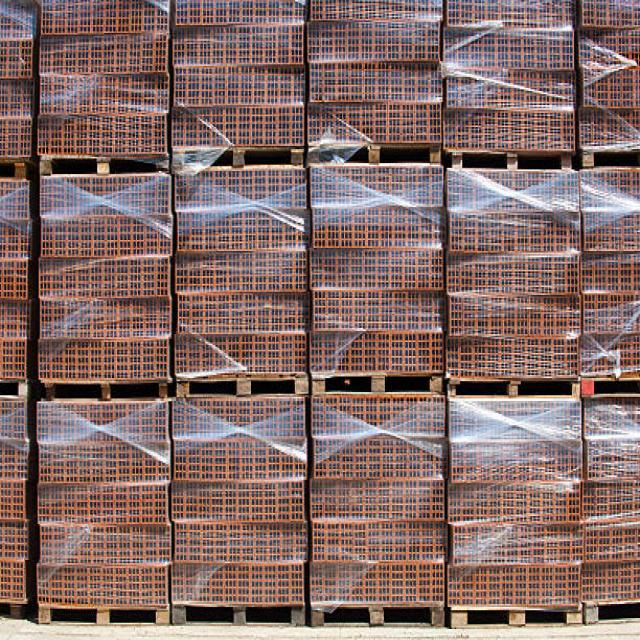Wooden-Pallets: (34, 366, 168, 405), (313, 365, 445, 401), (307, 592, 444, 626), (35, 147, 169, 180), (174, 594, 303, 628), (174, 141, 301, 173), (308, 138, 440, 168), (33, 599, 171, 627), (450, 145, 580, 174), (448, 599, 583, 626), (446, 372, 582, 398), (170, 373, 308, 398)
